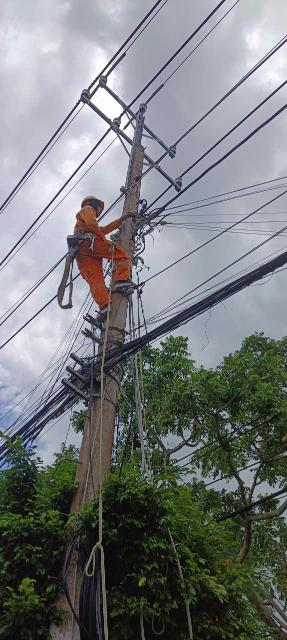gloves: (118, 211, 139, 228)
harness: (53, 226, 103, 247)
helmet: (71, 188, 112, 220)
shoes: (82, 295, 118, 322), (108, 276, 149, 292)
